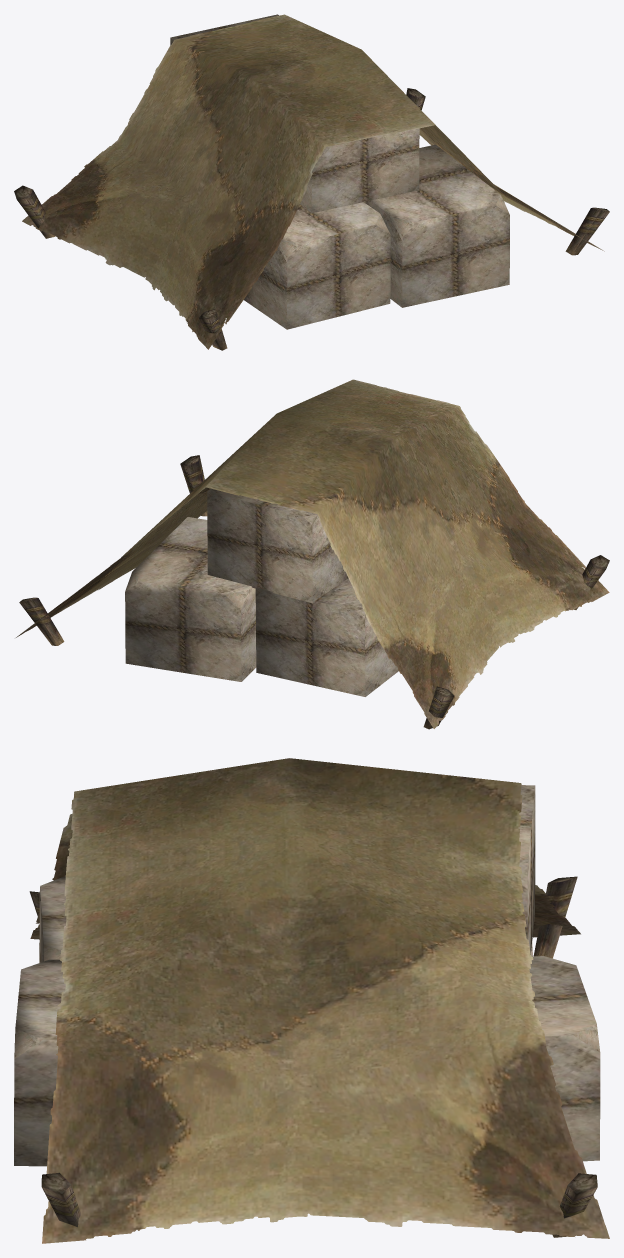
Rendered from ruin_takla_tentportal13_01.glb.
3 renders of one model, top to bottom at view 1: azimuth 30°, elevation 25°; view 2: azimuth 150°, elevation 25°; view 3: azimuth 270°, elevation 25°, orthographic. The views are drawn at different scales.
Parts seen in each view (by area): view 1: ruin_takla_tentportal13_01, ruin_takla_tentportal13_02, ruin_takla_tentportal13_03; view 2: ruin_takla_tentportal13_01, ruin_takla_tentportal13_02, ruin_takla_tentportal13_03; view 3: ruin_takla_tentportal13_01, ruin_takla_tentportal13_02, ruin_takla_tentportal13_03.
Boxes of the visible parts, x1=… form: ruin_takla_tentportal13_01: x1=22, y1=14, x2=604, y2=349; ruin_takla_tentportal13_02: x1=170, y1=14, x2=509, y2=329; ruin_takla_tentportal13_03: x1=14, y1=88, x2=609, y2=350; ruin_takla_tentportal13_01: x1=16, y1=379, x2=609, y2=728; ruin_takla_tentportal13_02: x1=125, y1=488, x2=398, y2=696; ruin_takla_tentportal13_03: x1=19, y1=455, x2=609, y2=729; ruin_takla_tentportal13_01: x1=30, y1=758, x2=609, y2=1243; ruin_takla_tentportal13_02: x1=14, y1=785, x2=600, y2=1166; ruin_takla_tentportal13_03: x1=29, y1=876, x2=597, y2=1237.
Bounding box in the file's own units: 4.34 × 1.87 × 3.4.
Materials: 3 (3 with a texture image).
